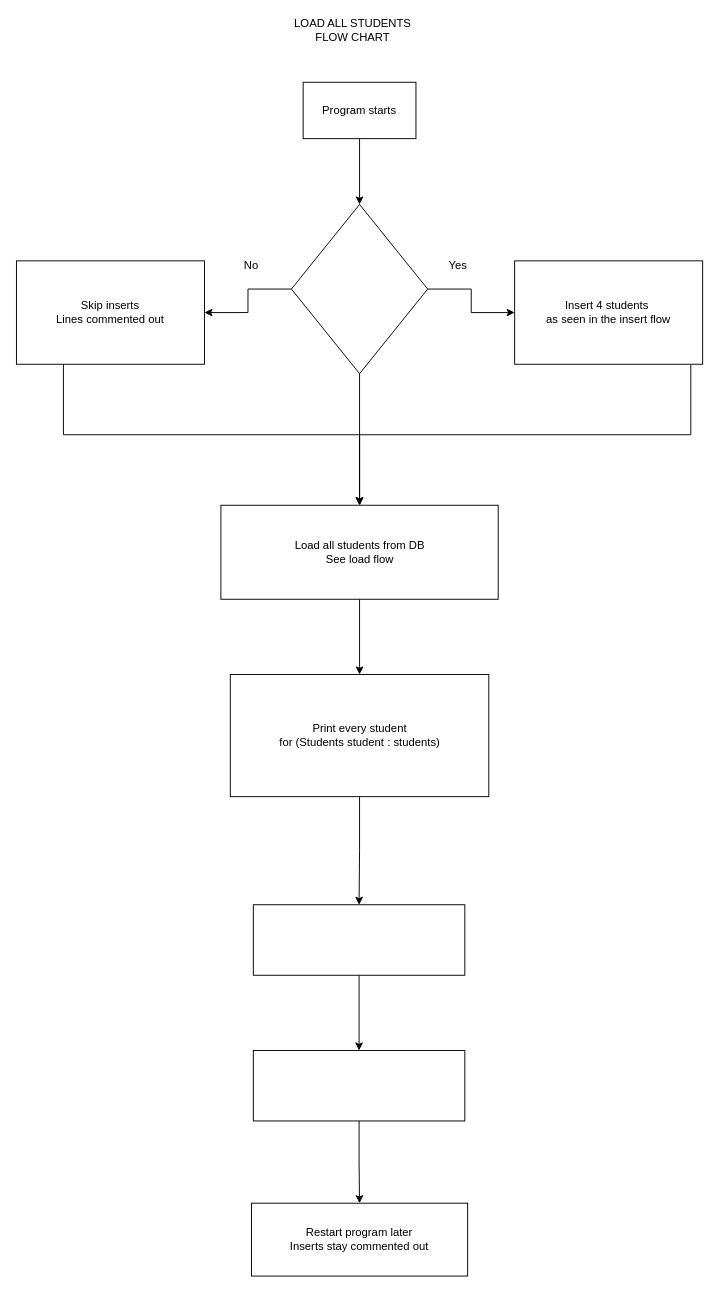
This 719x1293 diagram has some shape labels left out. Each missing label, with the centre of its shape:
"First run (Seeding on)?" goes at pixel 359 289.
"Print first students's average getAverageScore()" goes at pixel 358 939.
"Program ends, JVM exits All in-memory objects are gone" goes at pixel 358 1085.
